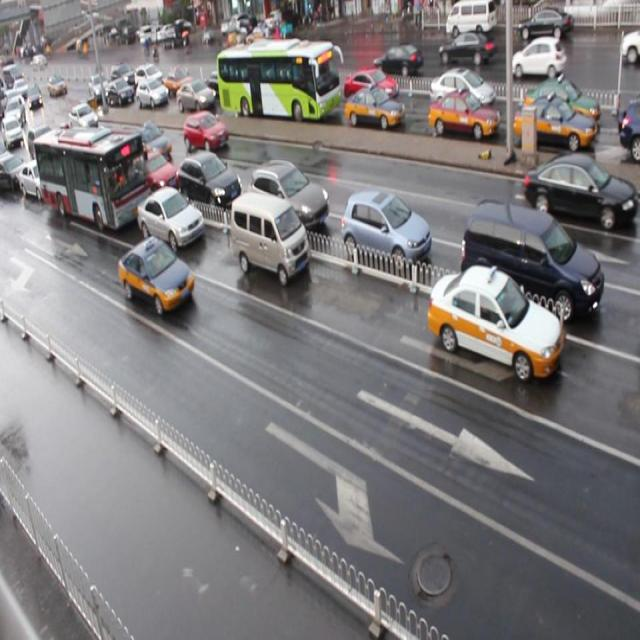car: (427, 260, 562, 382), (524, 151, 629, 229), (341, 189, 431, 273), (118, 234, 195, 316), (248, 160, 329, 233), (137, 184, 205, 251), (512, 97, 592, 152), (177, 150, 242, 210), (528, 79, 604, 130), (428, 92, 498, 140), (428, 66, 496, 112), (344, 86, 404, 132), (134, 146, 180, 194), (345, 66, 393, 108), (183, 113, 228, 156), (20, 157, 57, 201), (85, 134, 124, 173), (133, 122, 172, 161), (176, 81, 215, 115), (36, 130, 66, 170), (617, 103, 640, 154), (1, 152, 28, 194), (137, 80, 168, 110), (29, 128, 54, 162), (164, 67, 194, 94), (71, 104, 98, 133), (105, 78, 134, 105), (134, 62, 162, 89), (206, 72, 232, 100)
truck: (462, 196, 604, 327), (229, 190, 312, 285)
van: (34, 125, 154, 234), (217, 41, 340, 118)
